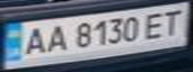0: (121, 12, 145, 43)
1: (90, 17, 112, 47)
3: (106, 16, 127, 45)
8: (72, 19, 93, 49)
A: (18, 24, 51, 56), (42, 21, 69, 54)
E: (139, 9, 169, 39)
T: (157, 6, 190, 37)
